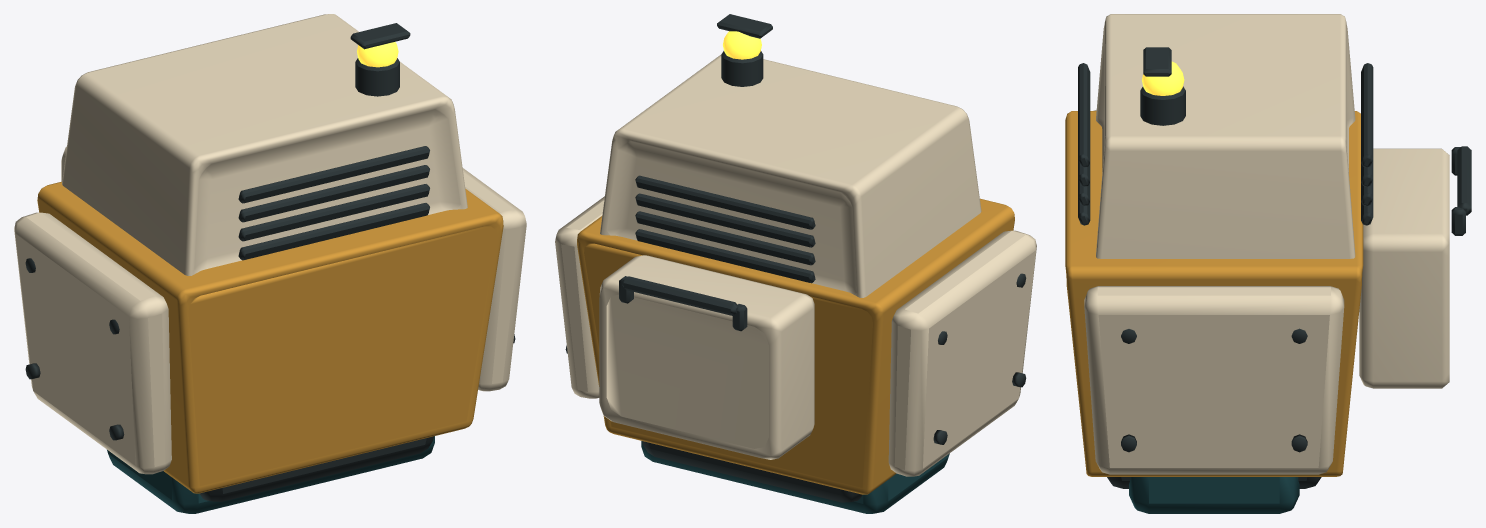
Rendered from mech-shell.glb.
The picture shows the model from 3 angles, left to right: view 1: azimuth 30°, elevation 25°; view 2: azimuth 150°, elevation 25°; view 3: azimuth 270°, elevation 25°; orthographic projection. The views are drawn at different scales.
Parts seen in each view (by area): view 1: MechShell; view 2: MechShell; view 3: MechShell.
Boxes of the visible parts, <box> form: MechShell: <box>14,14,526,513</box>; MechShell: <box>555,14,1036,513</box>; MechShell: <box>1065,14,1471,513</box>.
Size of the model in its own units: 1.65 by 1.7 by 1.43.
